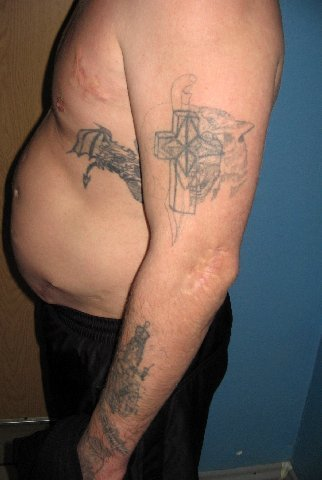tatu9_krest: (160, 104, 231, 209)
